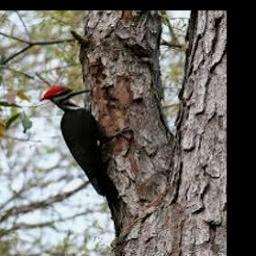Woodpecker: (39, 85, 133, 236)
